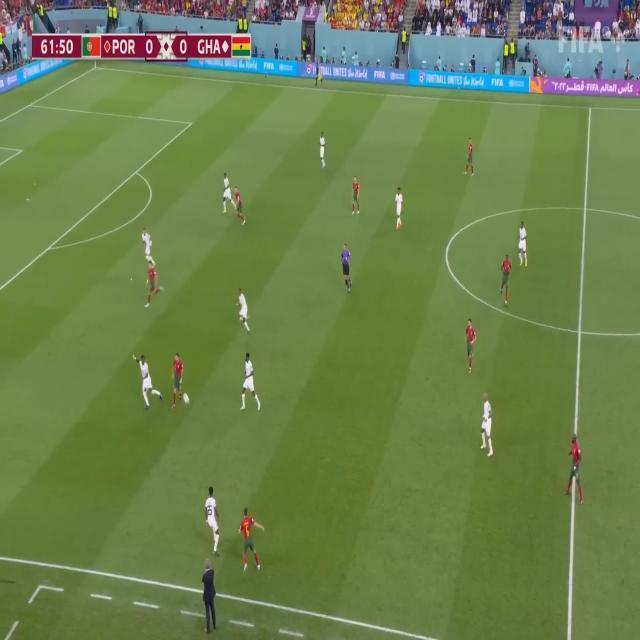player: (563, 426, 587, 511), (238, 505, 266, 577), (239, 350, 264, 419), (132, 351, 161, 409), (203, 485, 222, 556), (481, 387, 496, 463), (463, 310, 478, 378), (146, 260, 165, 311), (516, 216, 533, 270), (498, 251, 512, 307), (236, 286, 251, 337), (220, 167, 234, 219), (351, 172, 366, 220), (141, 229, 159, 268), (173, 348, 184, 410), (232, 188, 247, 229), (393, 185, 405, 232), (318, 130, 331, 173), (465, 132, 476, 180)
